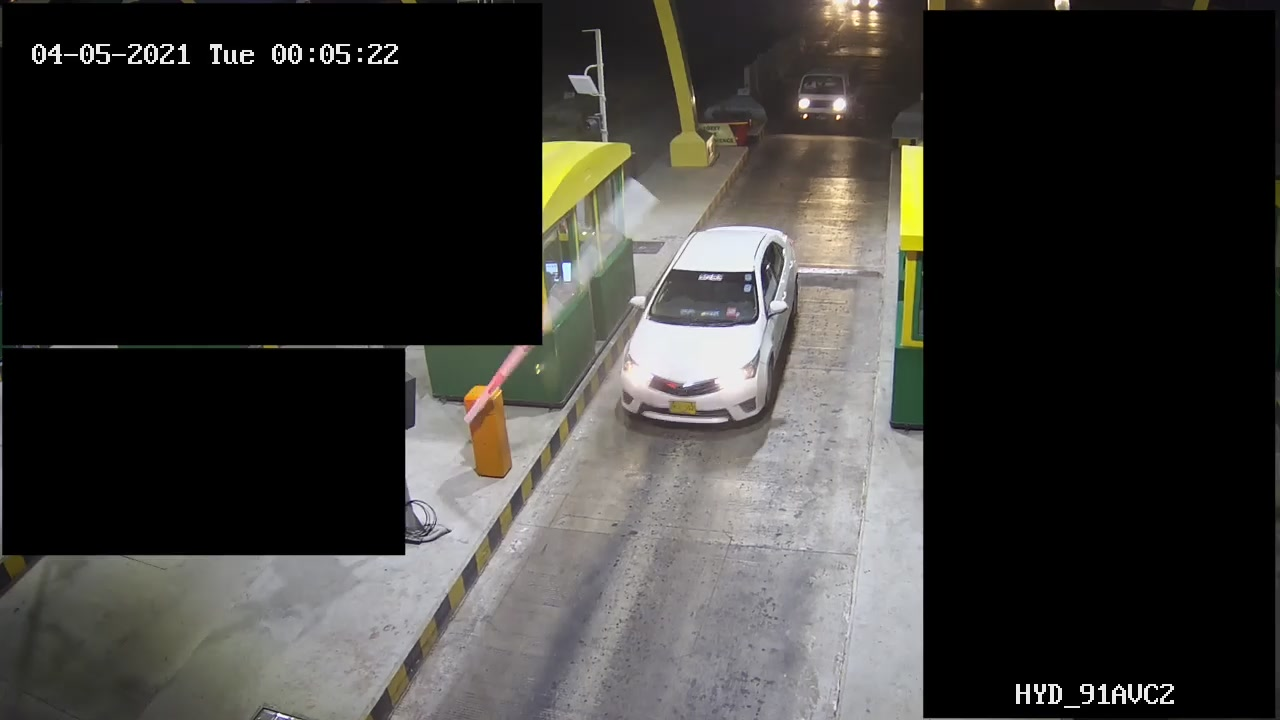F1: (615, 227, 805, 437)
